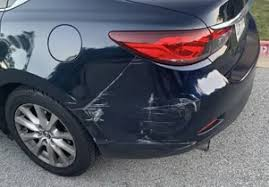scratch: (81, 94, 201, 130)
